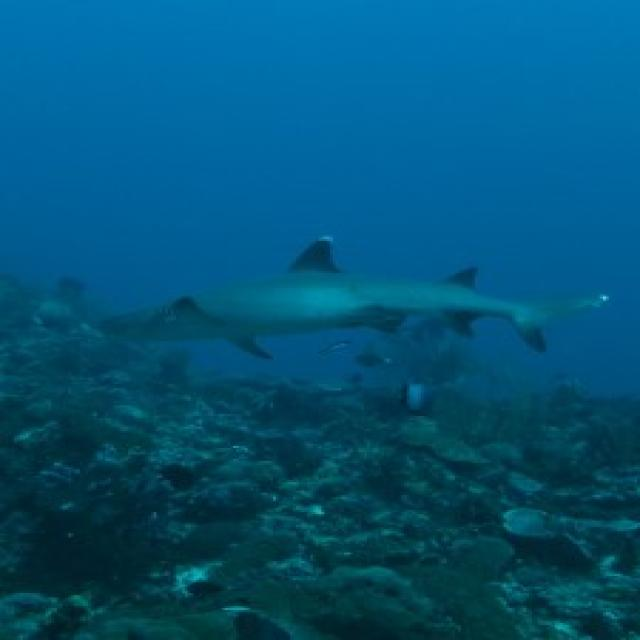Shark: (92, 232, 620, 347)
